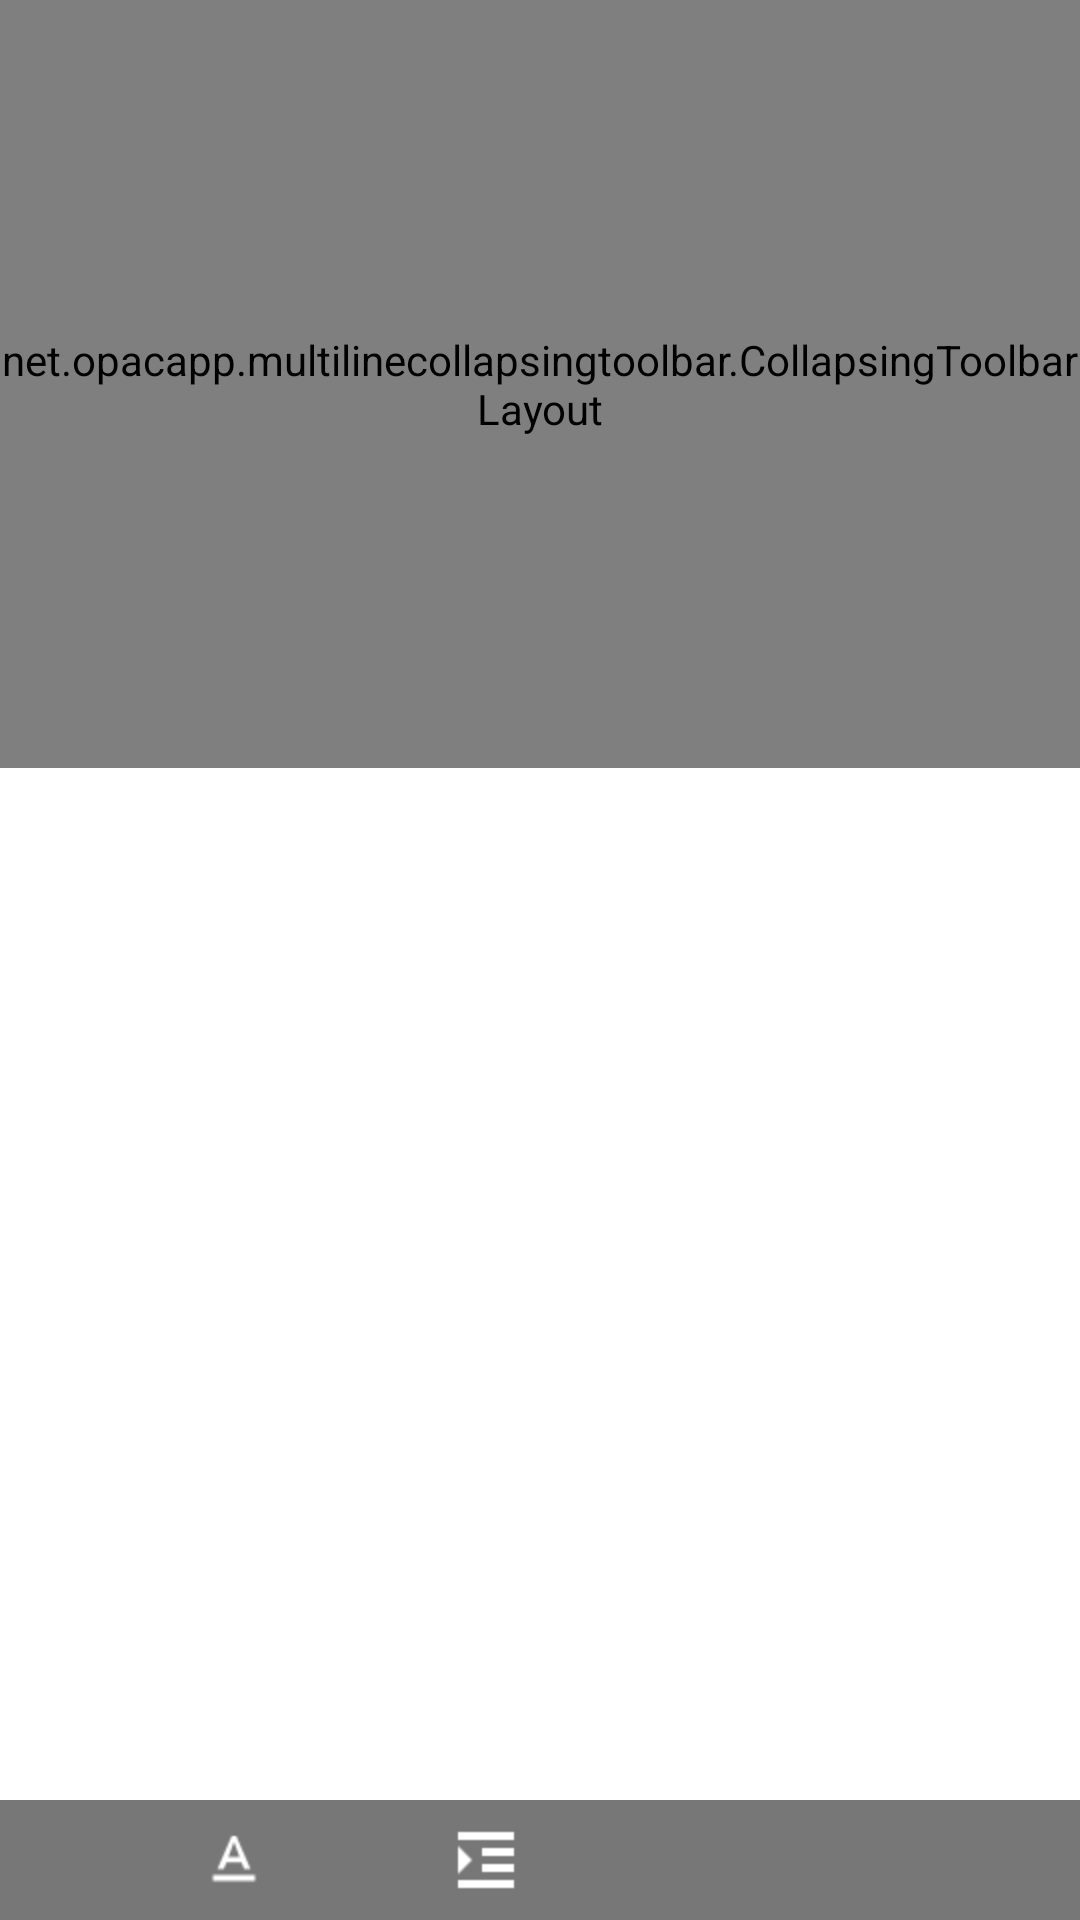

Icons on this 1080*1920 Android screen, each with its box as [x1, y1, x2, y2]:
format indent increase: [457, 1831, 515, 1889]
text format: [212, 1835, 256, 1882]
